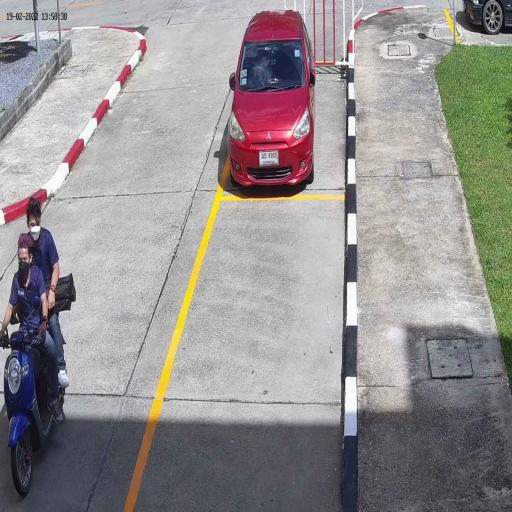car: (227, 9, 317, 190)
motorcycle: (0, 330, 46, 501)
